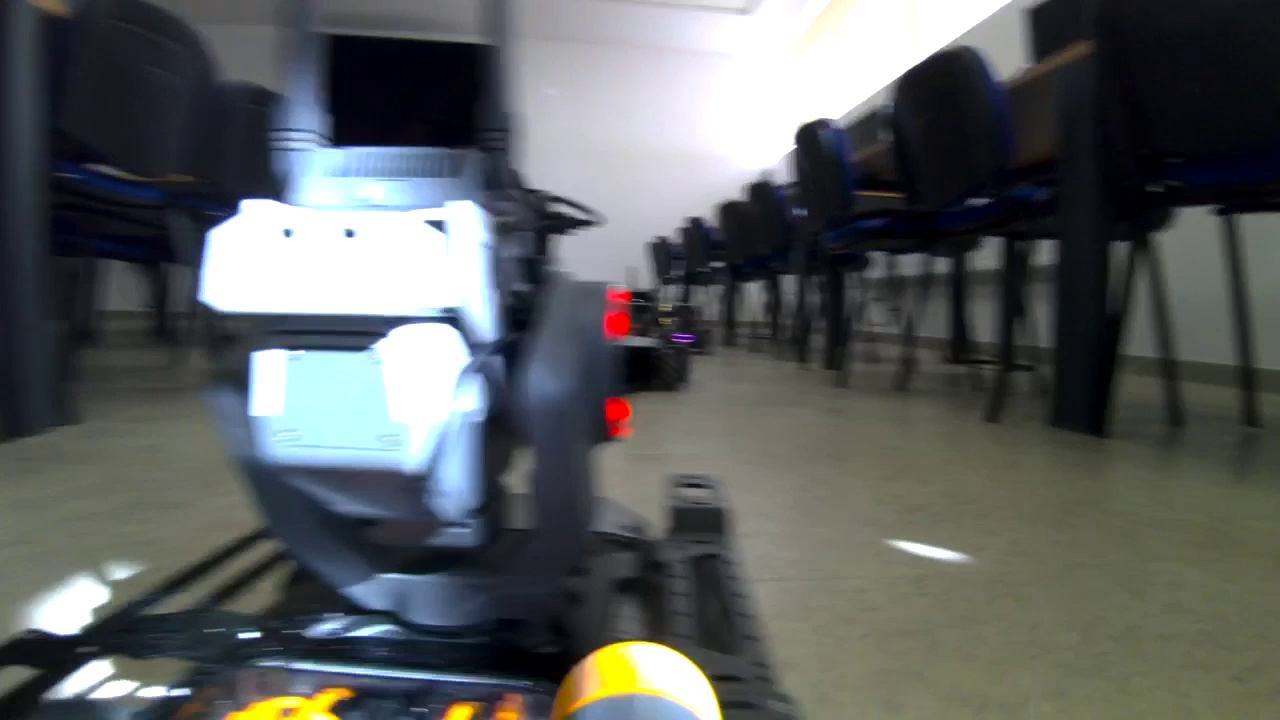robot: (35, 151, 779, 720)
